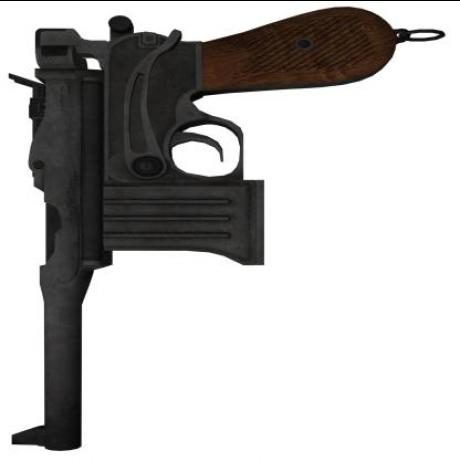weapon: (1, 4, 454, 458)
